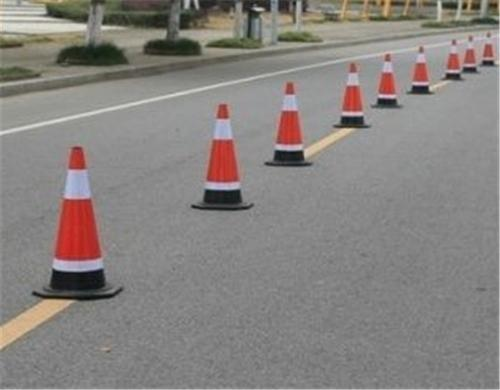cone_barrel: (35, 148, 119, 297), (192, 103, 249, 210), (266, 81, 307, 163), (333, 61, 367, 126), (372, 53, 400, 105), (407, 45, 433, 92), (441, 36, 463, 78), (461, 34, 477, 71), (481, 30, 494, 64)
